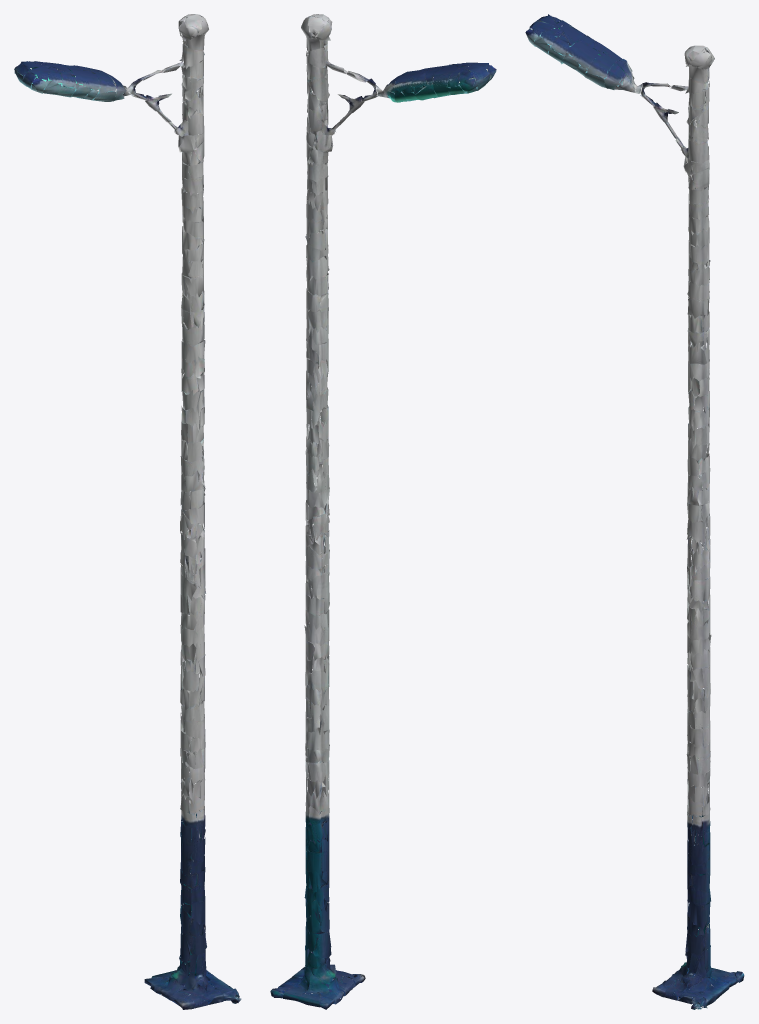
File: streetlamp.glb
3 renders of one model, left to right at view 1: azimuth 30°, elevation 25°; view 2: azimuth 150°, elevation 25°; view 3: azimuth 330°, elevation 25°, orthographic. The views are drawn at different scales.
Parts seen in each view (by area): view 1: Mesh_0; view 2: Mesh_0; view 3: Mesh_0.
Part boxes in pixels (left/top/right/bottom): Mesh_0: left=14, top=14, right=241, bottom=1009; Mesh_0: left=270, top=14, right=496, bottom=1009; Mesh_0: left=525, top=14, right=744, bottom=1009.
Bounding box in the file's own units: 0.4306 × 2 × 0.1755.
Materials: 1 (1 with a texture image).
